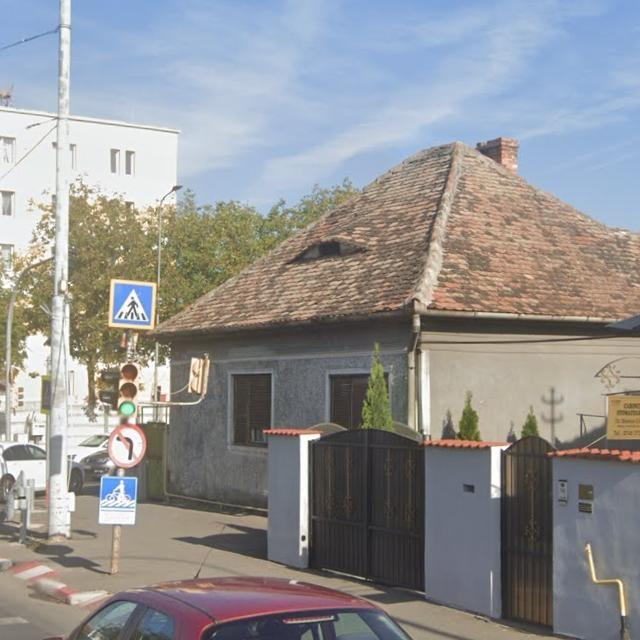info_crosswalk: (111, 280, 158, 331)
